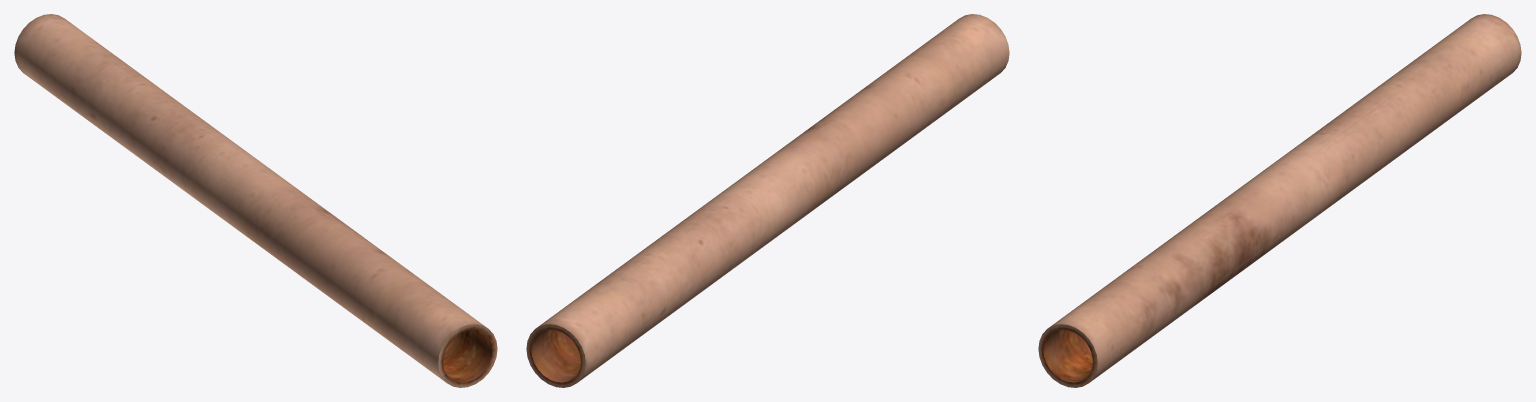
The model's file is small_copper_pipe_13.glb.
3 renders of one model, left to right at view 1: azimuth 30°, elevation 25°; view 2: azimuth 150°, elevation 25°; view 3: azimuth 330°, elevation 25°, orthographic.
Parts seen in each view (by area): view 1: small_copper_pipe_13; view 2: small_copper_pipe_13; view 3: small_copper_pipe_13.
Part boxes in pixels (<box>): small_copper_pipe_13: <box>14,14,497,387</box>; small_copper_pipe_13: <box>526,14,1009,387</box>; small_copper_pipe_13: <box>1038,14,1521,387</box>.
Size of what is drawn, in the model's own units: 0.0202 by 0.0202 by 0.25.
1 material, 1 textured.
